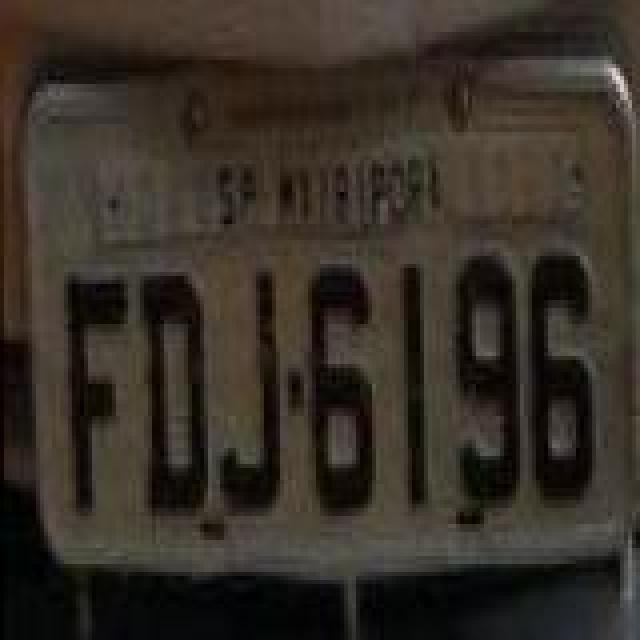1: (406, 262, 430, 522)
6: (528, 242, 596, 510), (304, 262, 372, 522)
9: (456, 242, 524, 510)
D: (140, 266, 208, 518)
F: (64, 266, 132, 518)
J: (216, 262, 284, 522)
